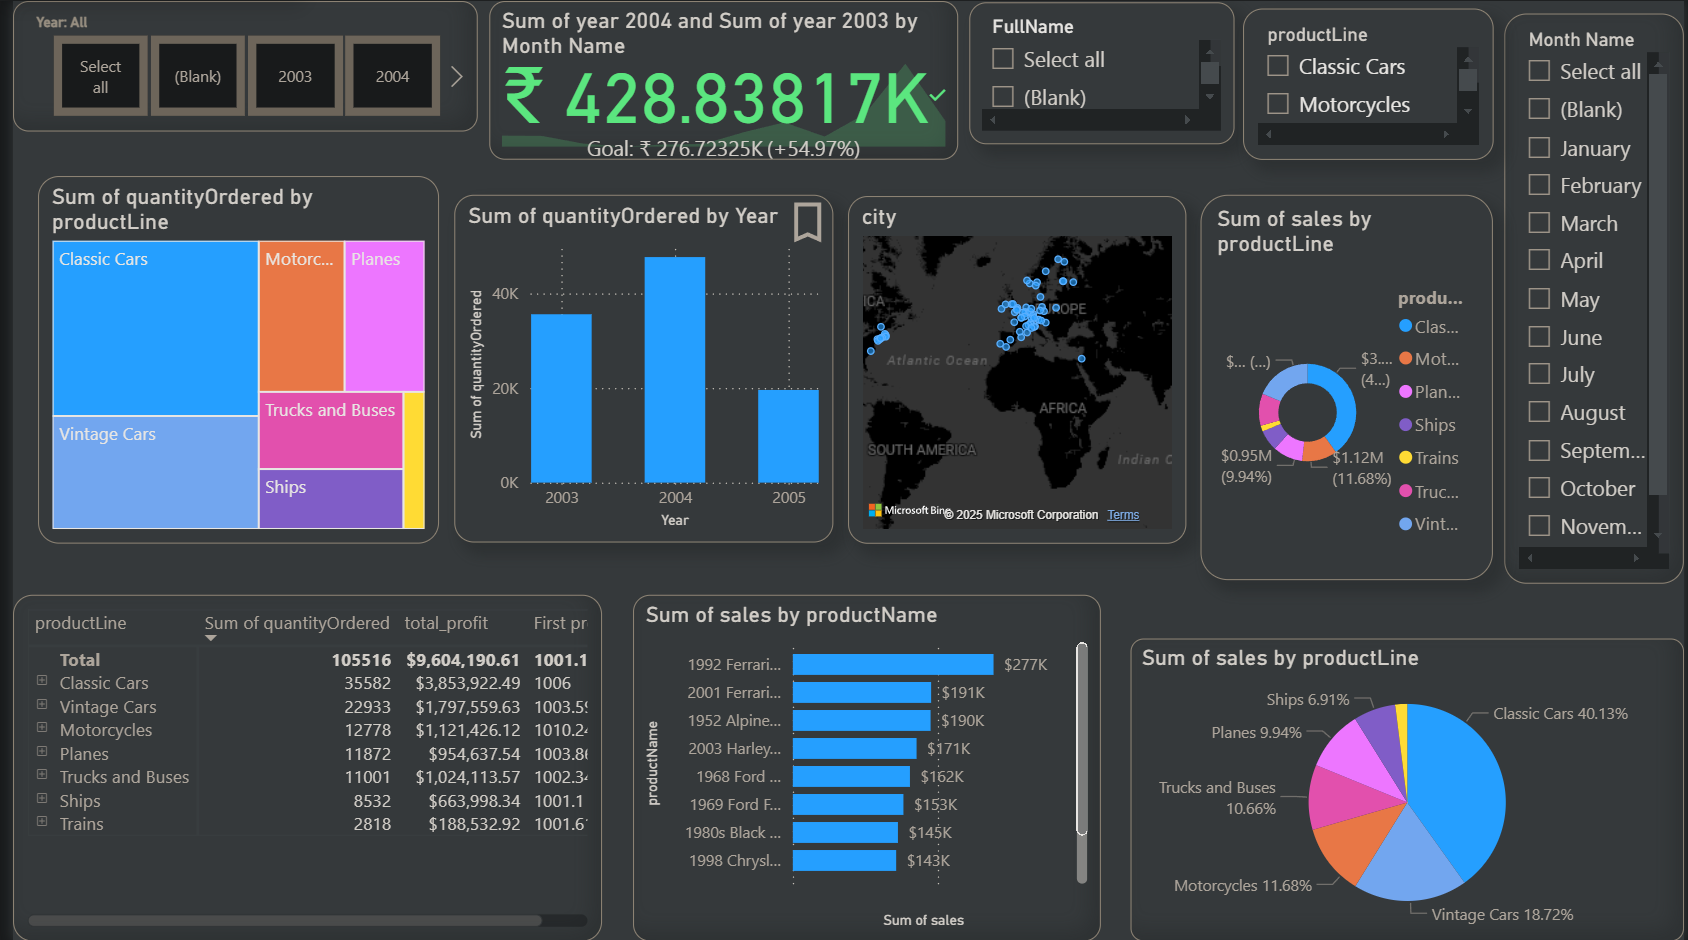

Layout of this report page (visuals, bound fields, positions):
{"tool":"powerbi","page":{"name":"Page 1","canvas":[1280,720],"ordinal":0},"visuals":[{"type":"barChart","fields":{"Category":["products.productName"],"Y":["order details.sales"]},"box":[475.3,454.8,358.3,265.4],"z":0},{"type":"pieChart","fields":{"Category":["products.productLine"],"Y":["order details.sales"]},"box":[856,487.9,424.3,232.3],"z":1000},{"type":"pivotTable","fields":{"Rows":["products.productLine","products.productName"],"Values":["order details.quantityOrdered","order details.total_profit","order details.profit"]},"box":[0,454.9,451.2,265.4],"z":2000},{"type":"slicer","fields":{"Values":["orders.Year"]},"box":[0,0,355.8,100.3],"z":3000},{"type":"slicer","fields":{"Values":["orders.Month Name"]},"box":[1142.5,9.7,137.5,436.7],"z":4000},{"type":"kpi","fields":{"Goal":["orders.year 2003"],"Indicator":["orders.year 2004"],"TrendLine":["orders.Month Name"]},"box":[364.3,0,359.5,121.9],"z":5000},{"type":"treemap","fields":{"Group":["products.productLine"],"Values":["order details.quantityOrdered"]},"box":[19.6,134.5,306.9,281.3],"z":6000},{"type":"columnChart","fields":{"Category":["orders.Year"],"Y":["order details.quantityOrdered"]},"box":[337.8,148.4,290.8,266.6],"z":7000},{"type":"map","fields":{"Category":["customer no.city"]},"box":[639.4,149.6,259.4,266.6],"z":8000},{"type":"donutChart","fields":{"Y":["order details.sales"],"Series":["products.productLine"]},"box":[909.7,148.4,224.4,295.6],"z":9000},{"type":"slicer","fields":{"Values":["customer no.FullName"]},"box":[732.5,1.2,203,108.8],"z":10000},{"type":"slicer","fields":{"Values":["products.productLine"]},"box":[942.2,6,191.8,115.8],"z":11000},{"type":"actionButton","box":[588.7,149.6,100.1,39.8],"z":11001}]}

Visuals, with their boxes in screenshot pixels (x1, y1, x2, y2), scaled from the page's 1280x720 canvas onto the 1688x940 screenshot:
barChart - products.productName x order details.sales: [627,594,1099,939]
pieChart - products.productLine x order details.sales: [1129,637,1687,939]
pivotTable - products.productLine x products.productName: [0,594,595,939]
slicer - orders.Year: [0,0,469,131]
slicer - orders.Month Name: [1507,13,1687,583]
kpi - orders.year 2003 x orders.year 2004: [480,0,955,159]
treemap - products.productLine x order details.quantityOrdered: [26,176,431,543]
columnChart - orders.Year x order details.quantityOrdered: [445,194,829,542]
map - customer no.city: [843,195,1185,543]
donutChart - order details.sales x products.productLine: [1200,194,1496,580]
slicer - customer no.FullName: [966,2,1234,144]
slicer - products.productLine: [1243,8,1495,159]
actionButton: [776,195,908,247]
